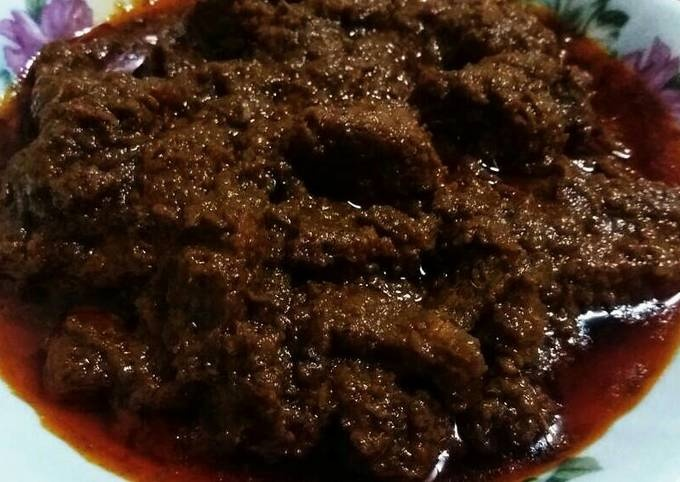rendang: (10, 14, 674, 450)
